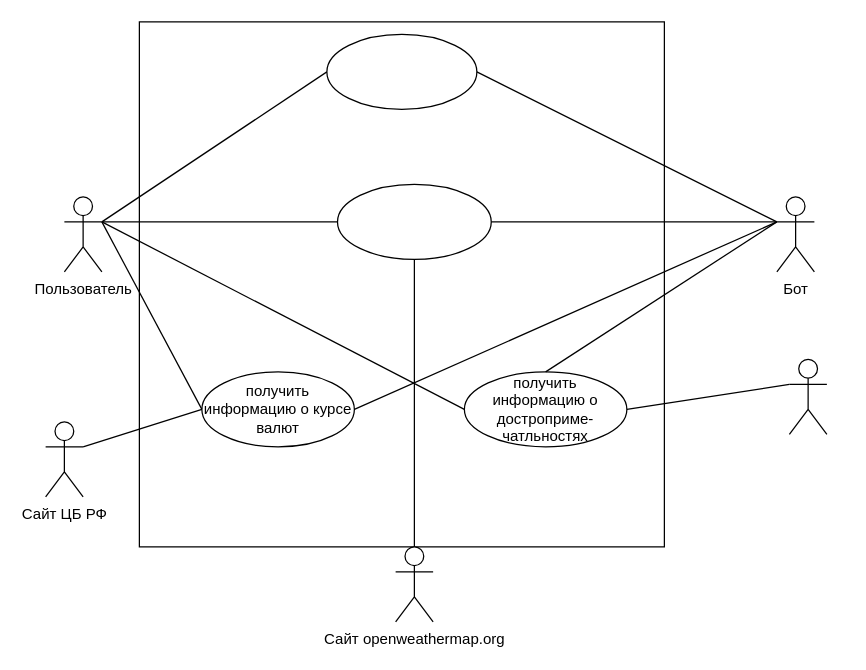
Some shapes in this 866 by 670 pixel diagram are drawn without their labels. Each missing label, with the box of its shape:
Википедия: (788, 358, 827, 434)
Выбрfть команду /help или /start: (326, 33, 477, 109)
получить информацию о погоде: (336, 183, 491, 259)
